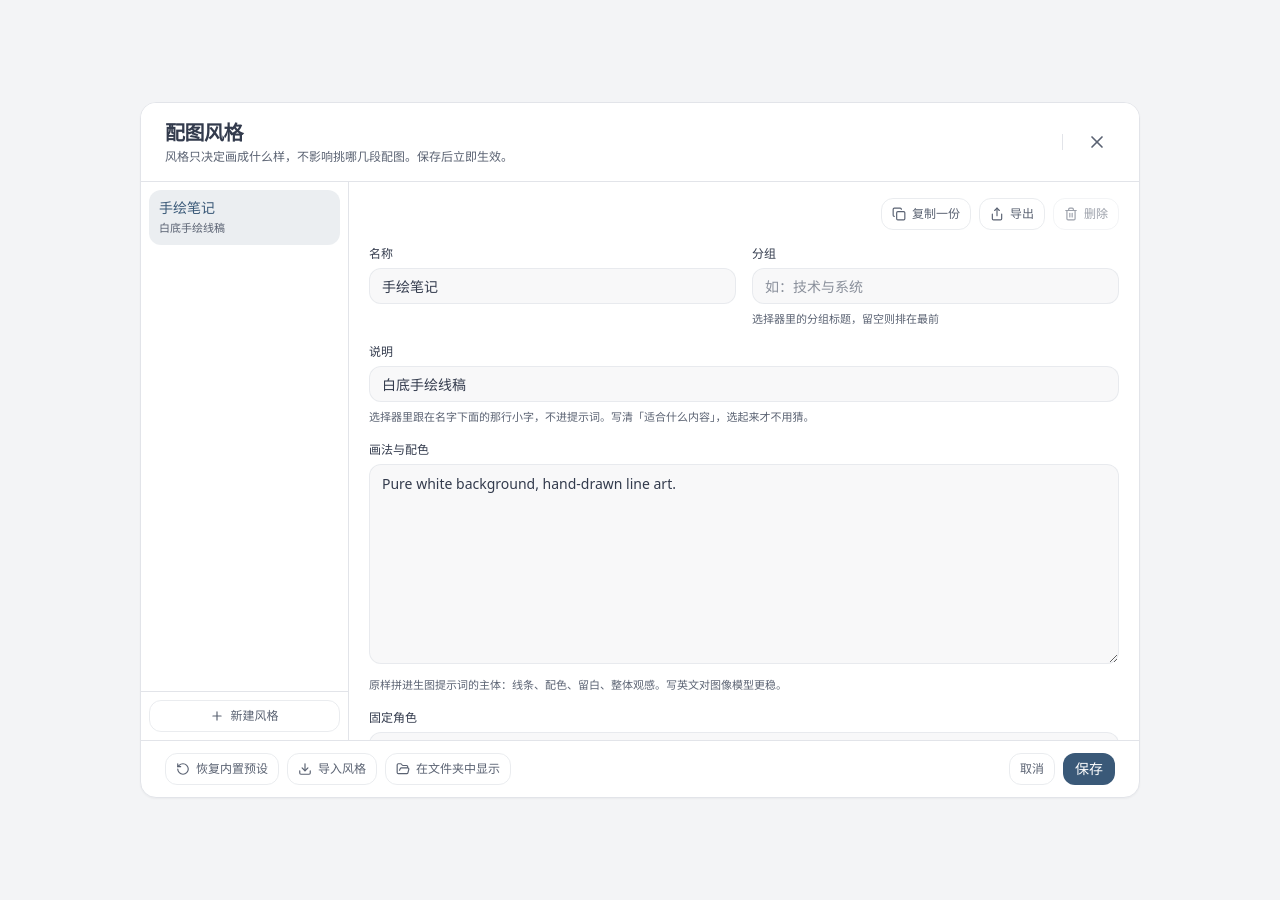
Test: IllustrationStyleEditor › 新建的风格进入列表并成为当前编辑对象
The width and height of the screenshot is (1280, 900).
Click the button "新建风格" at (244, 716), box [149, 700, 340, 732]
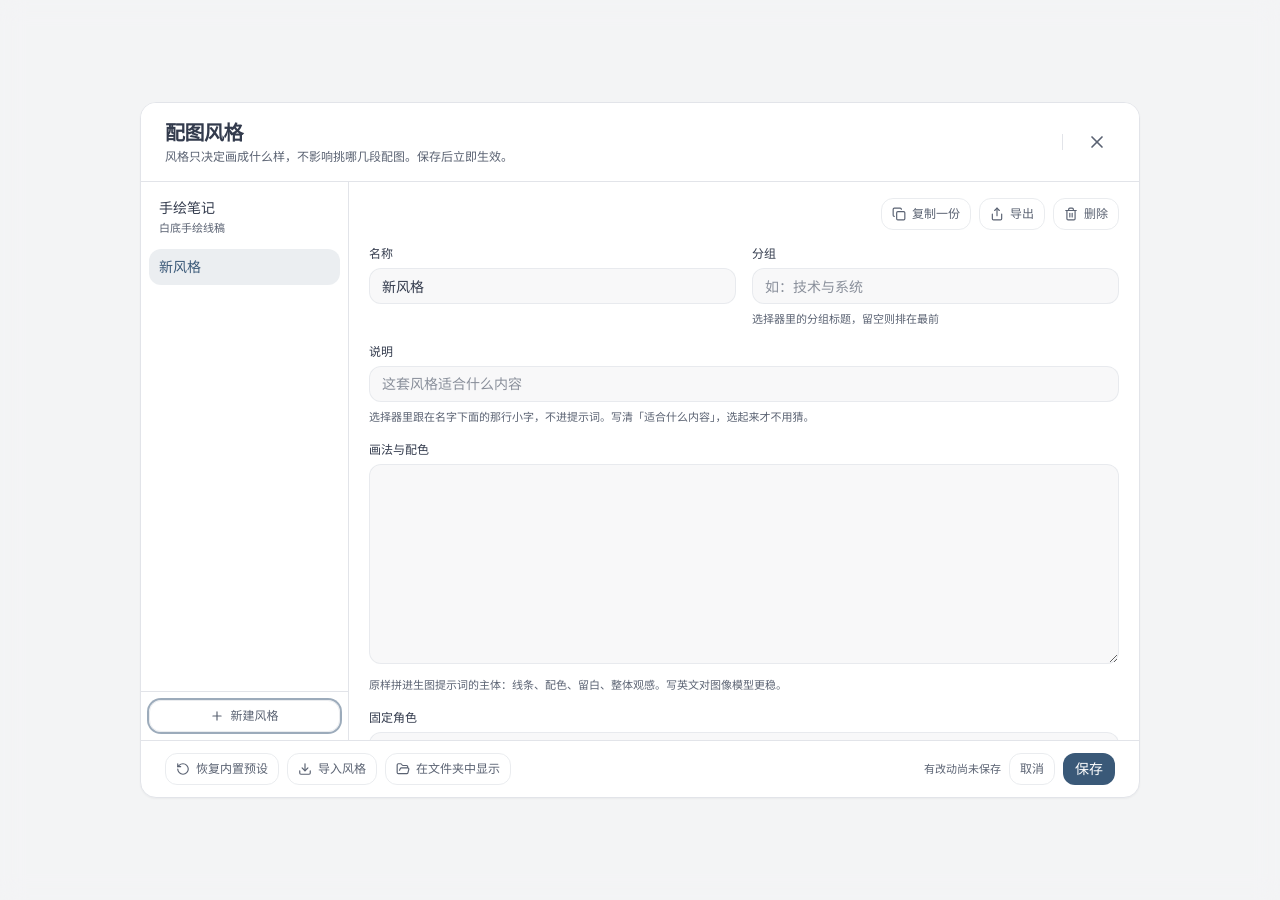
Now the field labelled "名称" holds "新风格", box [369, 268, 736, 304]
Now the button "删除" is enabled, box [1053, 198, 1119, 230]
